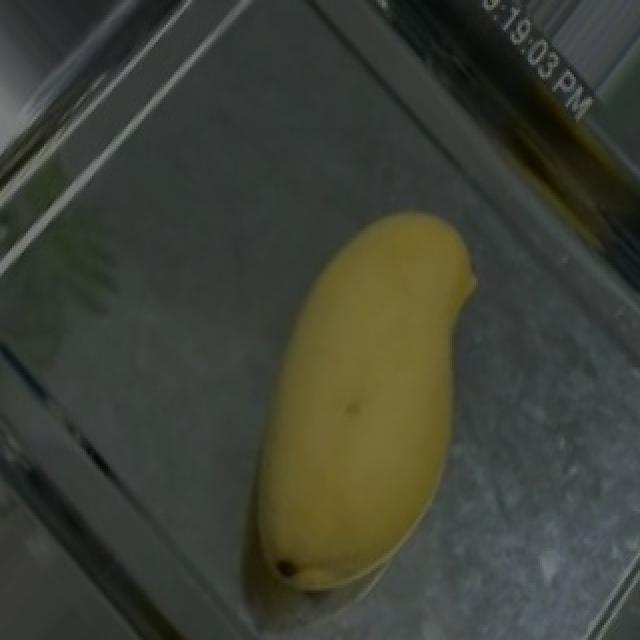fruit: (220, 164, 552, 580)
